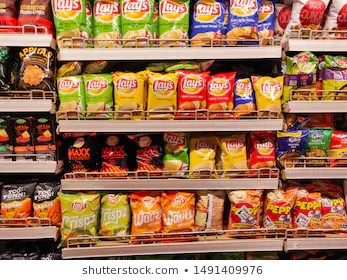lays-large: (124, 1, 158, 50), (191, 1, 225, 48), (227, 1, 260, 45), (157, 1, 188, 47), (92, 1, 120, 47), (57, 1, 85, 46)
lays-med: (59, 192, 96, 247), (132, 190, 162, 247), (111, 75, 147, 119), (97, 191, 130, 239), (202, 70, 233, 119), (163, 193, 194, 242), (63, 133, 98, 176), (249, 76, 282, 121), (99, 133, 130, 180), (131, 131, 160, 181), (147, 74, 177, 119), (56, 75, 85, 119), (191, 136, 220, 179), (220, 136, 250, 176), (250, 132, 277, 176), (161, 130, 186, 177), (177, 74, 203, 119), (87, 75, 111, 119)
